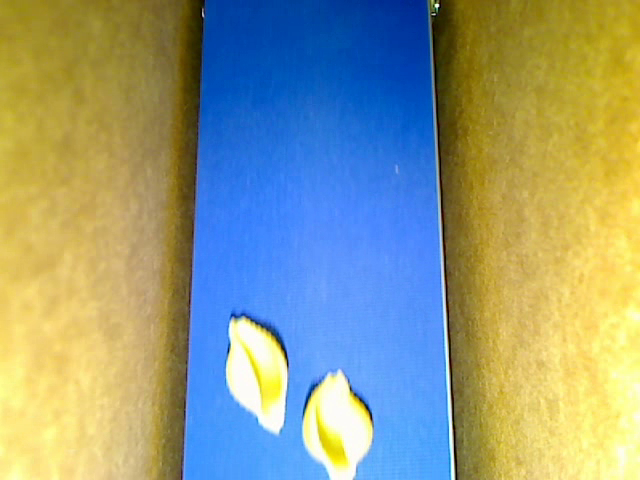shell: (303, 368, 373, 479), (226, 314, 286, 433)
